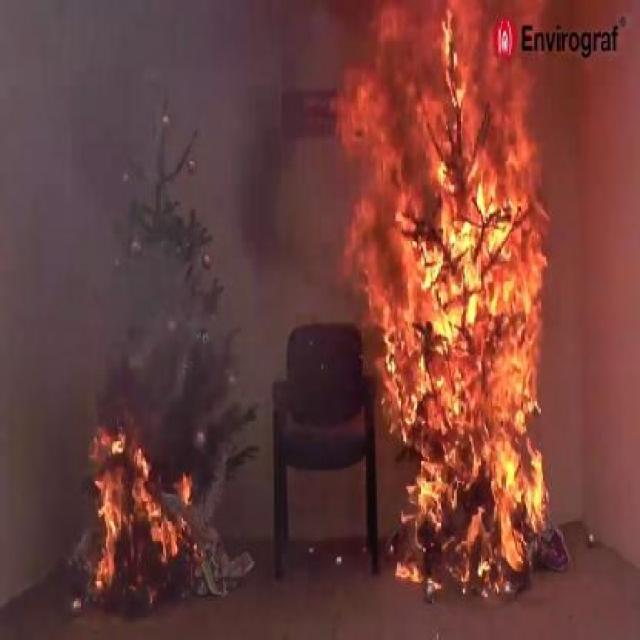fire: (330, 28, 556, 587), (84, 432, 193, 596)
smoke: (99, 77, 278, 343)
